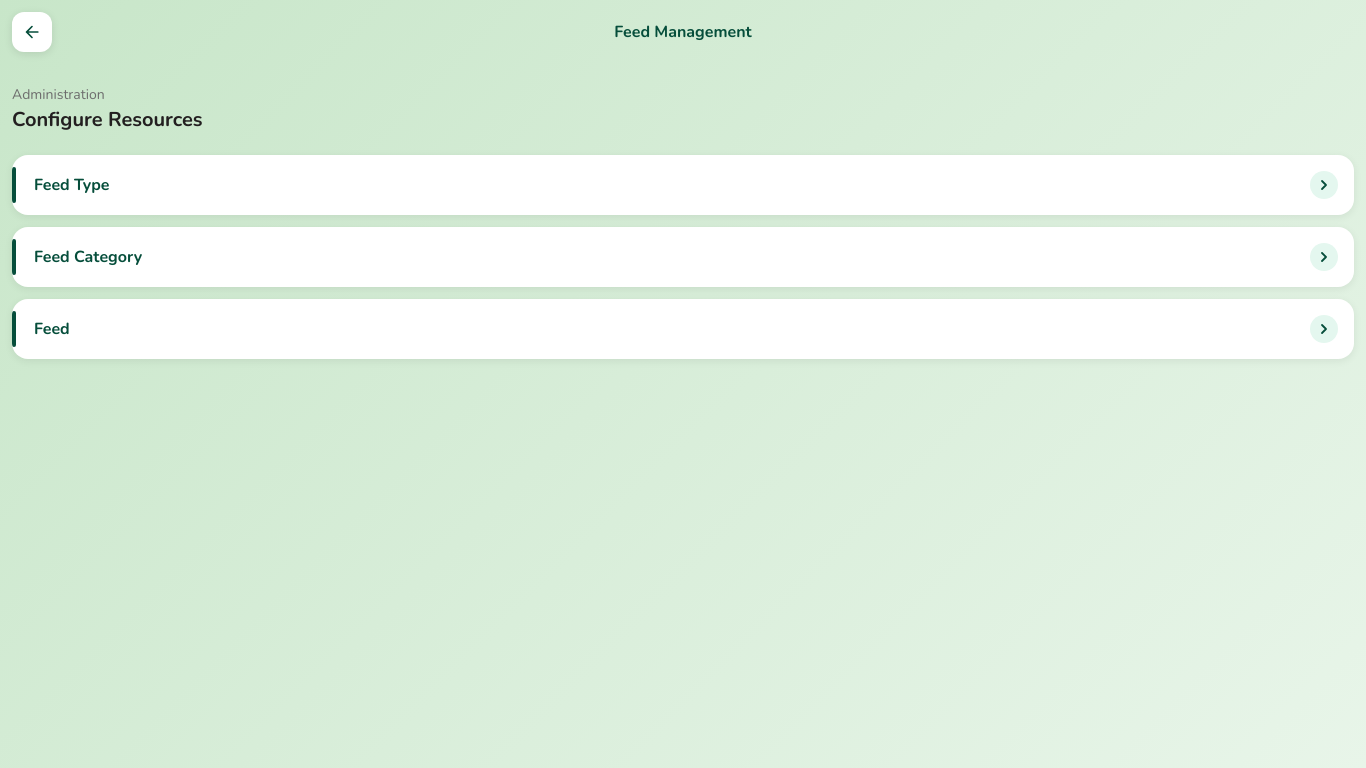
Test: Admin Feeds — Feed CRUD modal › openEditFeed pre-fills the form, and Save sends the full nutrient payload via updateAdminFeed and preserves fd_code/meta
Later steps or results of the test are not shown.
Click the button "Feed".
click(52, 329)  # box [12, 299, 1354, 359]
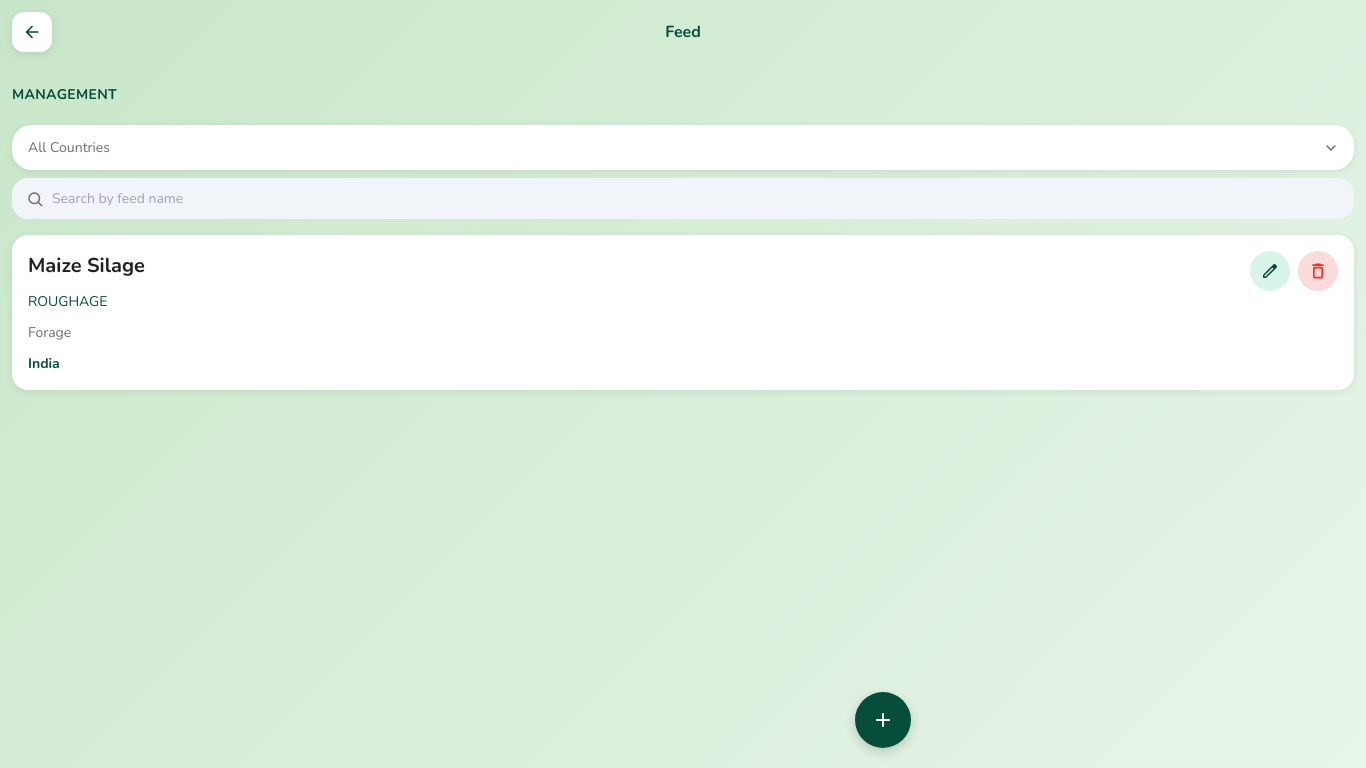
Check: the text "Maize Silage" is shown, box [28, 252, 145, 279]
Click the button named "Edit feed".
click(1270, 271)  # box [1250, 251, 1290, 291]
(page scrolled)
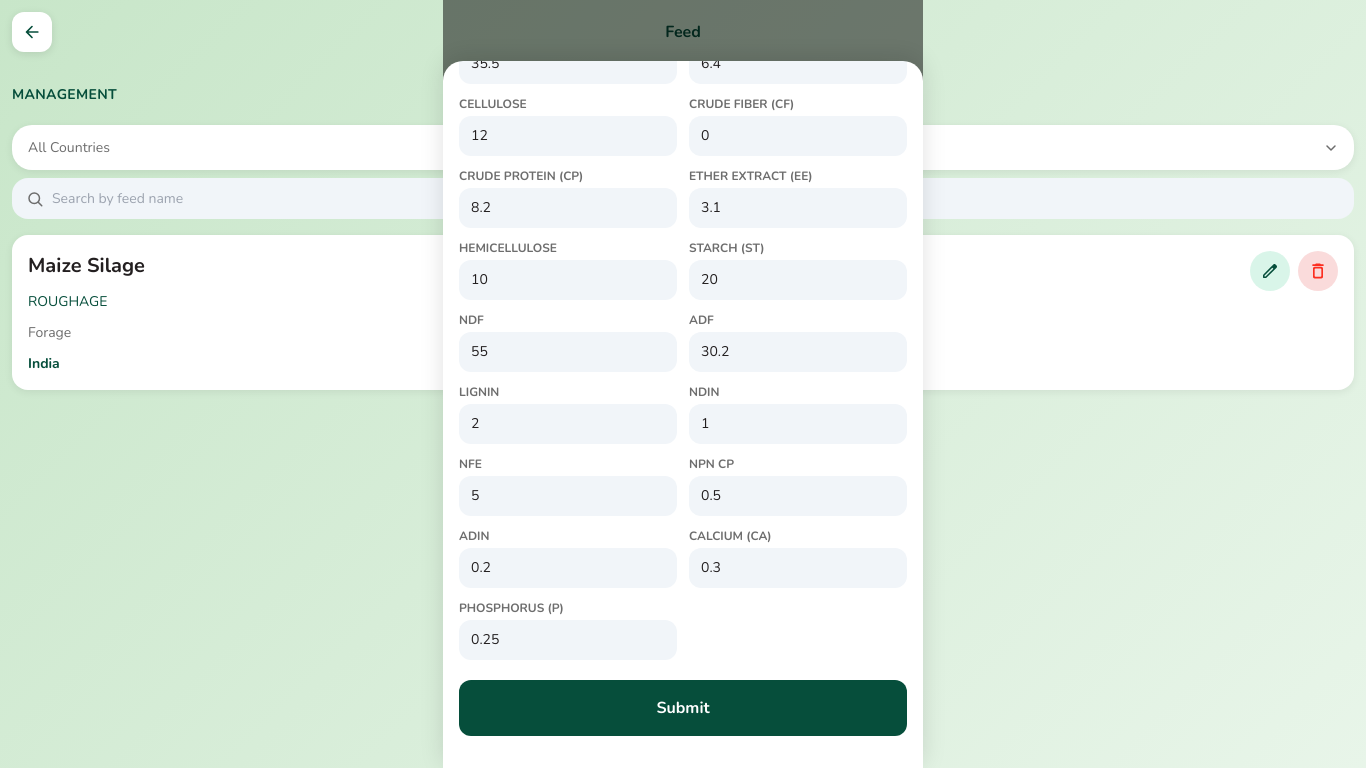
Check: the dialog is shown, box [443, 62, 923, 767]
Check: the number of number fields with placeholder "0.00" is 17
Check: the number field with placeholder "0.00" holds "12", box [459, 116, 677, 156]
